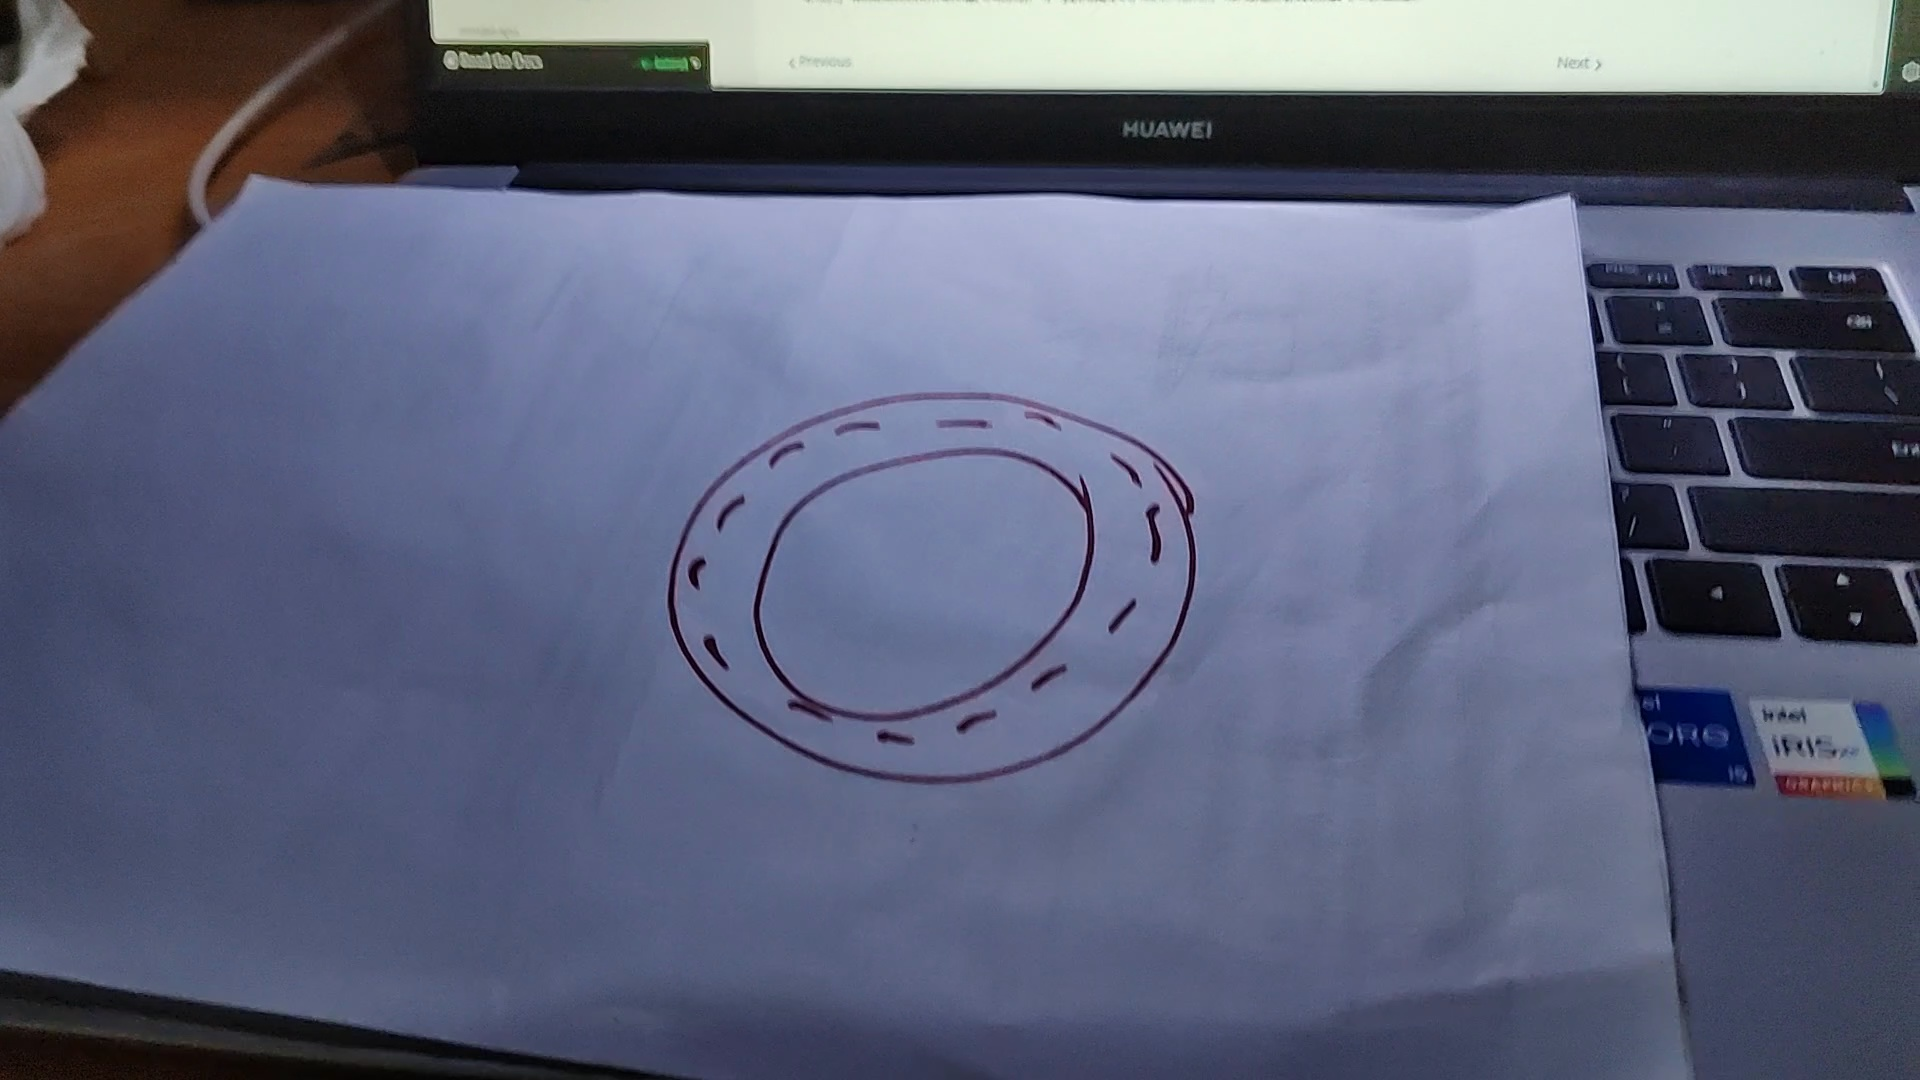circle: (667, 394, 1204, 782)
